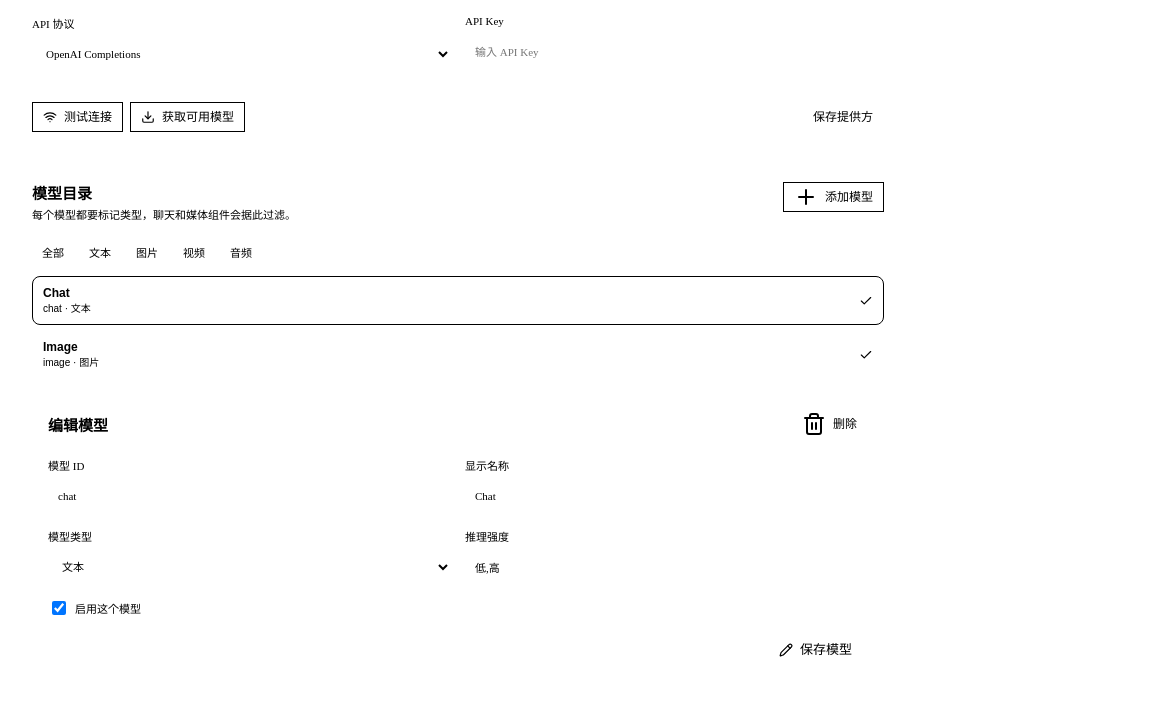
Scenario: SettingsPage and ModelSettingsCard › renames an existing model without duplicating it and preserves comma input
(page scrolled)
Replace the text in the field labelled "模型 ID" with "renamed" at (260, 496), box [48,478,471,514]
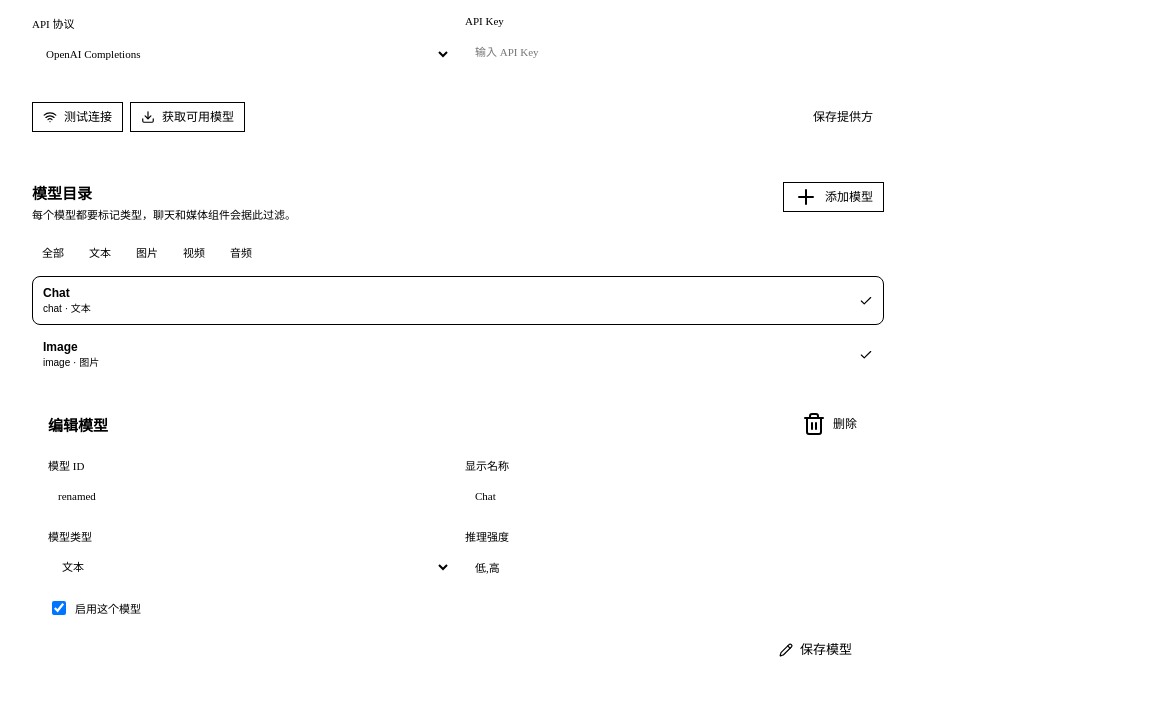
Replace the text in the field labelled "推理强度" with "low," at (676, 567), box [465,549,888,585]
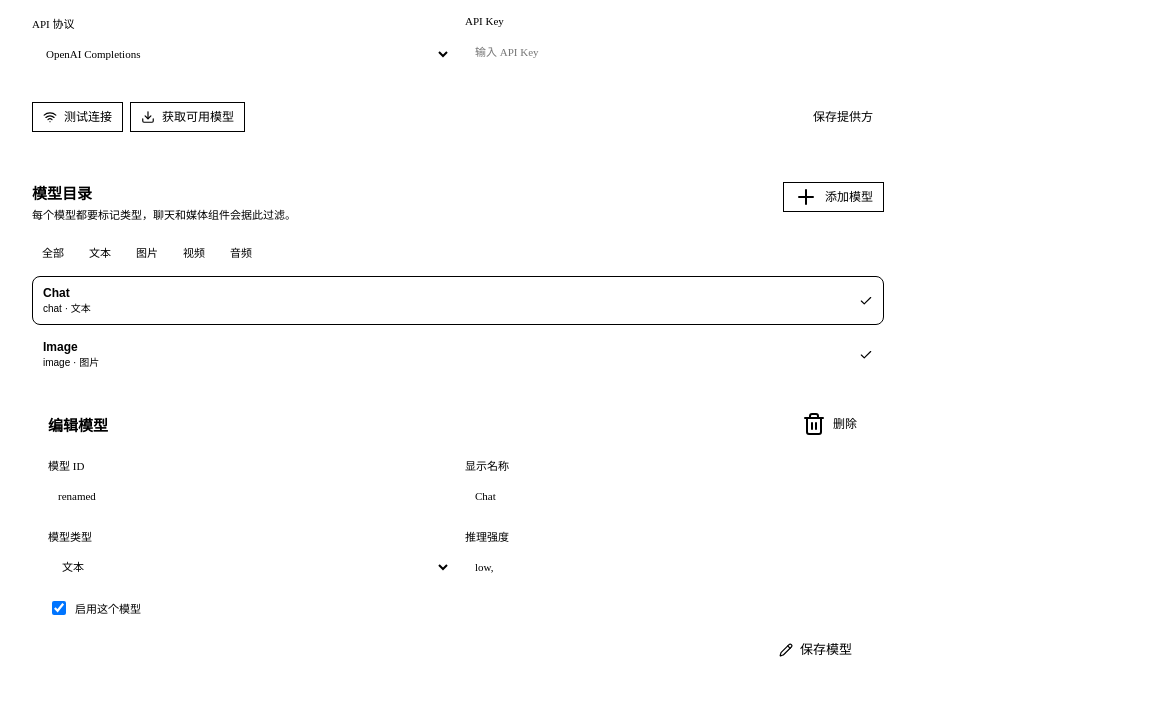
Replace the text in the field labelled "推理强度" with "low, high" at (676, 567), box [465,549,888,585]
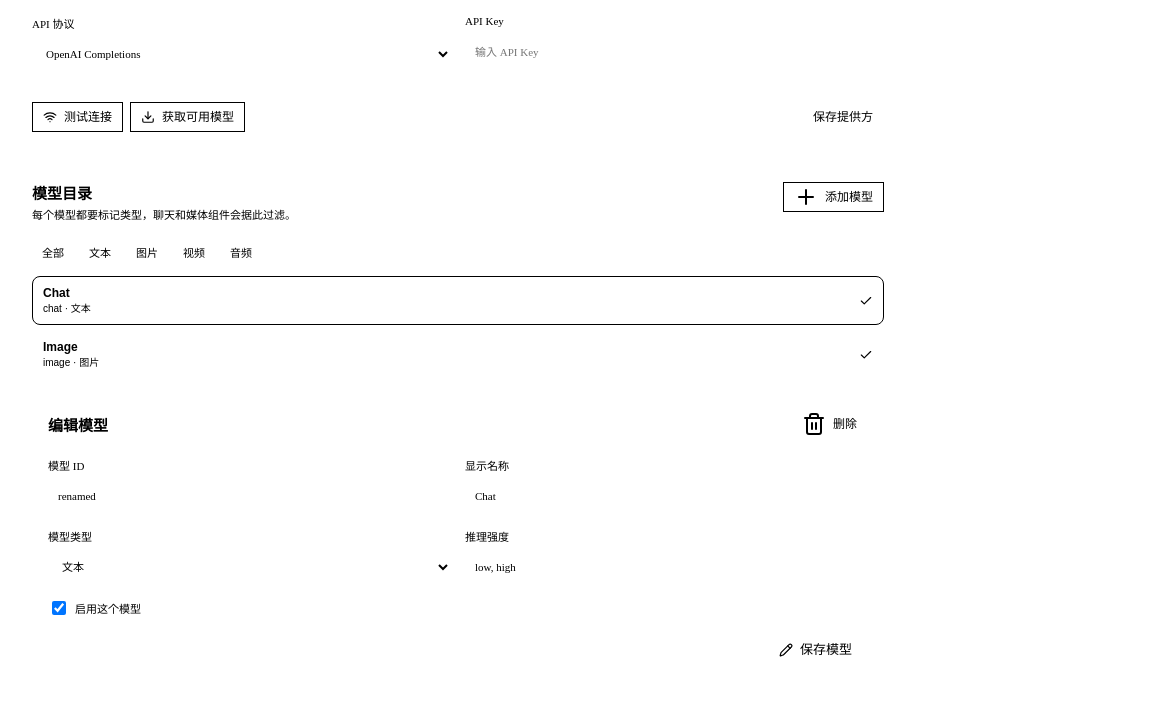
Click the button "保存模型" at (816, 650), box [763,632,868,668]
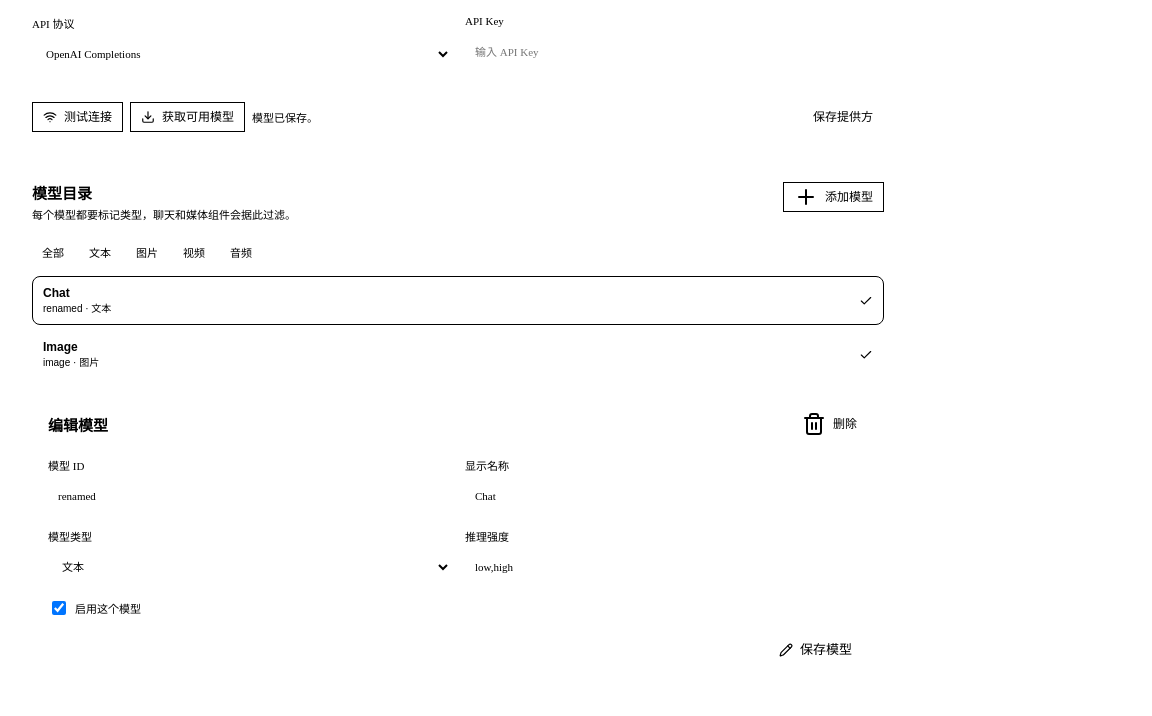
Result: the text "模型已保存。" is shown at [252,112,318,124]
